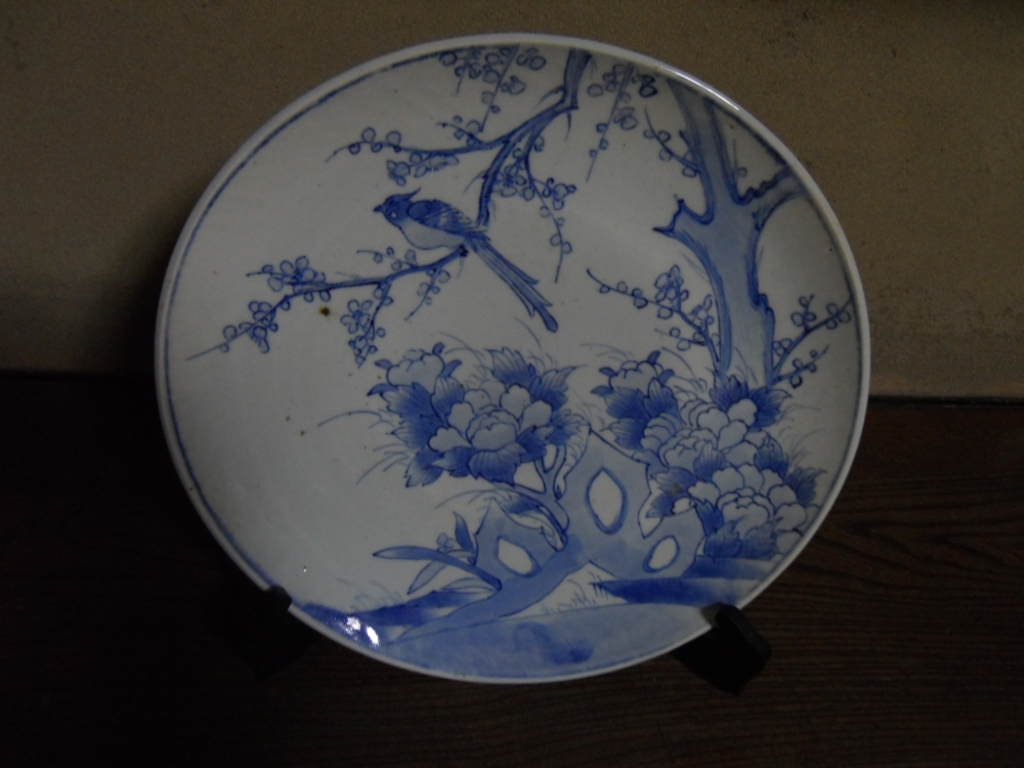plate: (199, 20, 832, 644)
